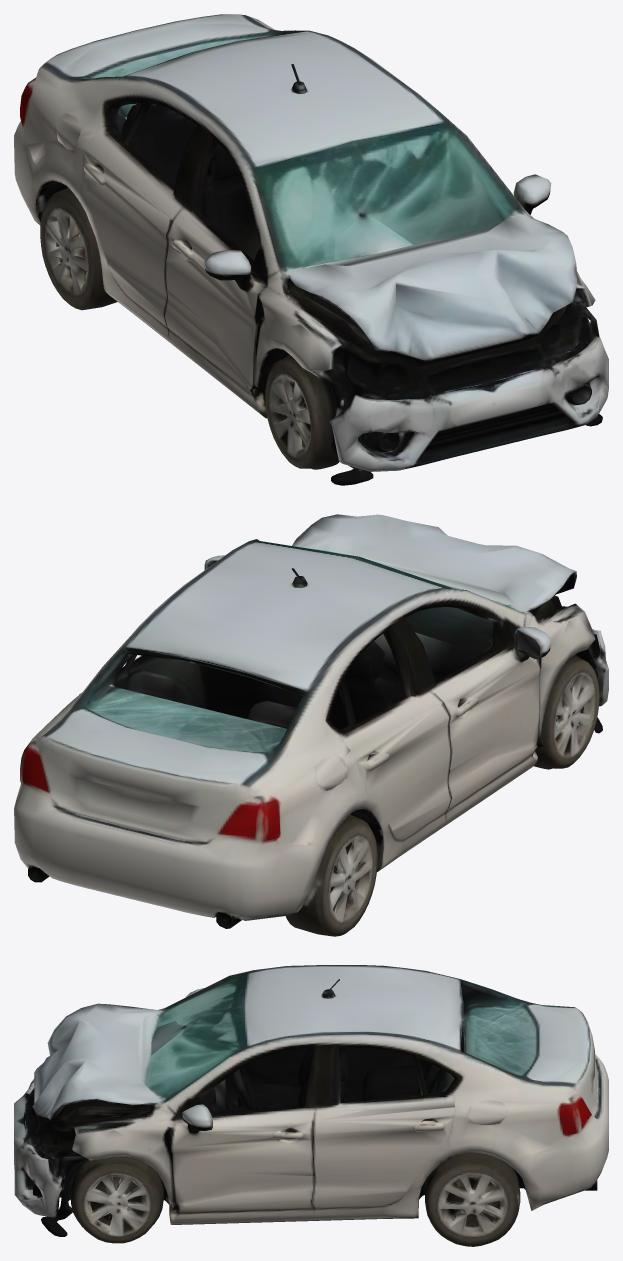
File: crashed_car_f2b577ae_v3.glb
3 views of the same model, one above another, from view 1: azimuth 30°, elevation 25°; view 2: azimuth 150°, elevation 25°; view 3: azimuth 270°, elevation 25° (orthographic). The views are drawn at different scales.
Parts seen in each view (by area): view 1: material; view 2: material; view 3: material.
Boxes of the visible parts, bbox=[...] form: material: bbox=[14, 14, 608, 485]; material: bbox=[14, 514, 608, 936]; material: bbox=[14, 965, 608, 1246].
Size of the model in its own units: 1 by 0.7604 by 1.9.
1 material, 1 textured.
